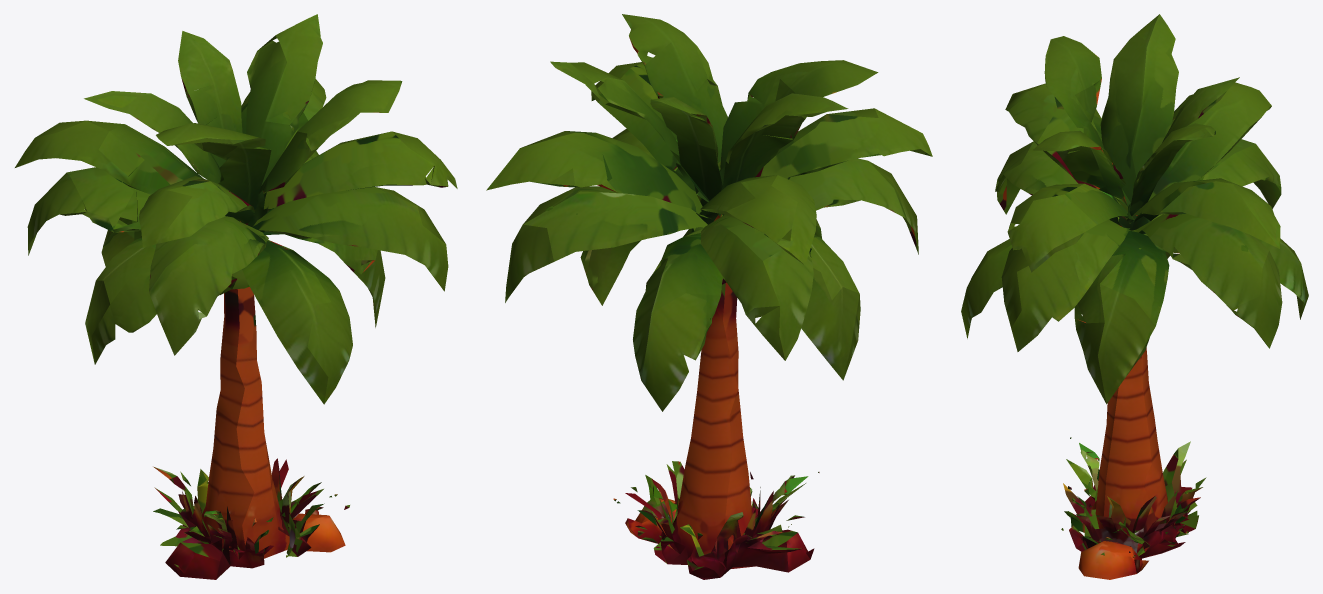
File: Tree.fbx
3 views of the same model, side by side, from view 1: azimuth 30°, elevation 25°; view 2: azimuth 150°, elevation 25°; view 3: azimuth 270°, elevation 25° (orthographic). The views are drawn at different scales.
Visible parts, largest first — view 1: tmpqdu_odbw.ply; view 2: tmpqdu_odbw.ply; view 3: tmpqdu_odbw.ply.
Boxes of the visible parts, box(x1,y1,x2,y2) form: tmpqdu_odbw.ply: box(15, 14, 457, 579); tmpqdu_odbw.ply: box(486, 14, 932, 579); tmpqdu_odbw.ply: box(961, 14, 1308, 579).
Size of the model in its own units: 140 by 198 by 136.
Materials: 1 (1 with a texture image).
